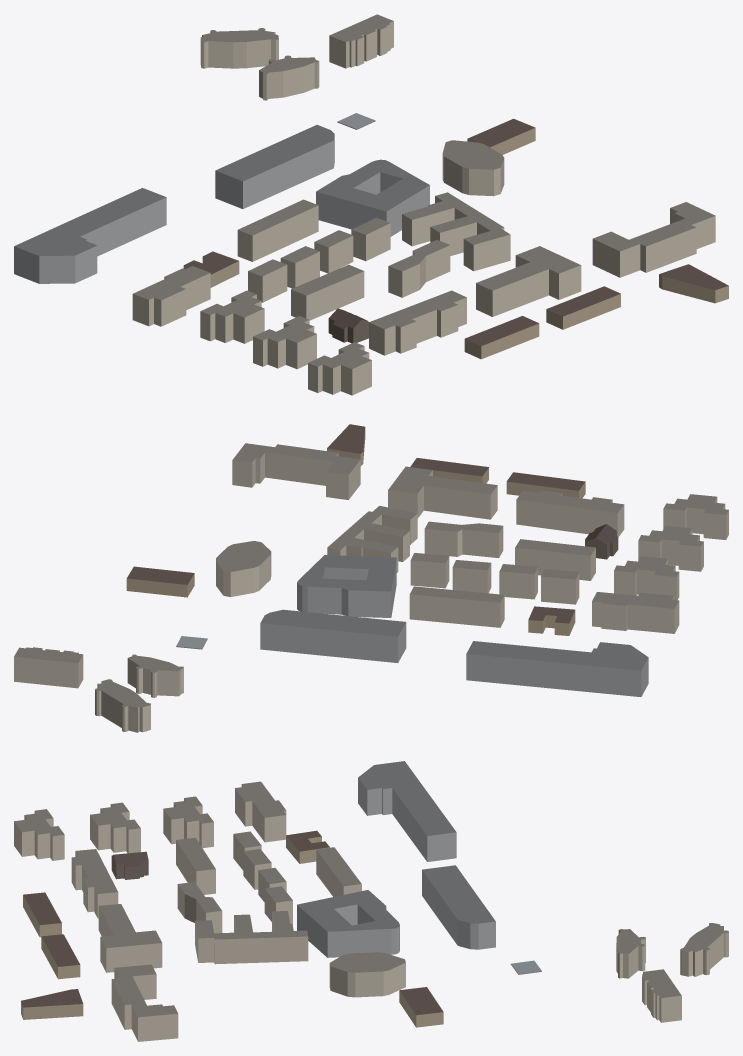
File: tile_2_2.glb
The picture shows the model from 3 angles, top to bottom: view 1: azimuth 30°, elevation 25°; view 2: azimuth 150°, elevation 25°; view 3: azimuth 270°, elevation 25°; orthographic projection. The views are drawn at different scales.
Parts seen in each view (by area): view 1: HP-w293024964, HP-w1323661907, HP-r3974784, HP-w299010060, HP-w299010062, HP-w299010098, HP-w299010048, HP-w299010058, HP-w299010067, HP-w1435620377, HP-w1270806032, HP-w299010084 (+16 smaller); view 2: HP-w293024964, HP-w1323661907, HP-r3974784, HP-w299010060, HP-w299010098, HP-w299010048, HP-w299010062, HP-w299010067, HP-w299010058, HP-w1435620377, HP-w299010096, HP-w1270806035 (+16 smaller); view 3: HP-w293024964, HP-r3974784, HP-w299010062, HP-w1323661907, HP-w299010060, HP-w1435620377, HP-w299010098, HP-w299010058, HP-w299010048, HP-w293512891, HP-w293512895, HP-w293512896 (+16 smaller).
Boxes of the visible parts, x1,y1,x2,y2 form: HP-w293024964: (14, 188, 166, 283); HP-w1323661907: (215, 125, 334, 208); HP-r3974784: (316, 159, 429, 236); HP-w299010060: (592, 202, 715, 277); HP-w299010062: (402, 192, 510, 271); HP-w299010098: (476, 246, 581, 316); HP-w299010048: (369, 290, 466, 355); HP-w299010058: (132, 266, 210, 326); HP-w299010067: (237, 199, 318, 261); HP-w1435620377: (442, 140, 504, 196); HP-w1270806032: (200, 28, 278, 68); HP-w299010084: (291, 264, 364, 320); HP-w293024964: (466, 641, 648, 696); HP-w1323661907: (260, 609, 406, 662); HP-r3974784: (297, 555, 396, 617); HP-w299010060: (232, 443, 360, 499); HP-w299010098: (388, 466, 497, 519); HP-w299010048: (516, 490, 624, 536); HP-w299010062: (327, 505, 417, 572); HP-w299010067: (409, 586, 504, 627); HP-w299010058: (592, 592, 679, 633); HP-w1435620377: (216, 541, 271, 596); HP-w299010096: (424, 521, 503, 558); HP-w1270806035: (14, 647, 83, 688); HP-w293024964: (358, 761, 456, 861); HP-r3974784: (297, 890, 399, 957); HP-w299010062: (195, 911, 308, 964); HP-w1323661907: (422, 865, 495, 949); HP-w299010060: (111, 964, 178, 1041); HP-w1435620377: (329, 952, 405, 997); HP-w299010098: (98, 904, 162, 972); HP-w299010058: (235, 781, 286, 842); HP-w299010048: (71, 849, 118, 918); HP-w293512891: (14, 809, 64, 860); HP-w293512895: (90, 802, 140, 853); HP-w293512896: (163, 796, 213, 848).
Bounding box in the file's own units: 399 × 19 × 473.
